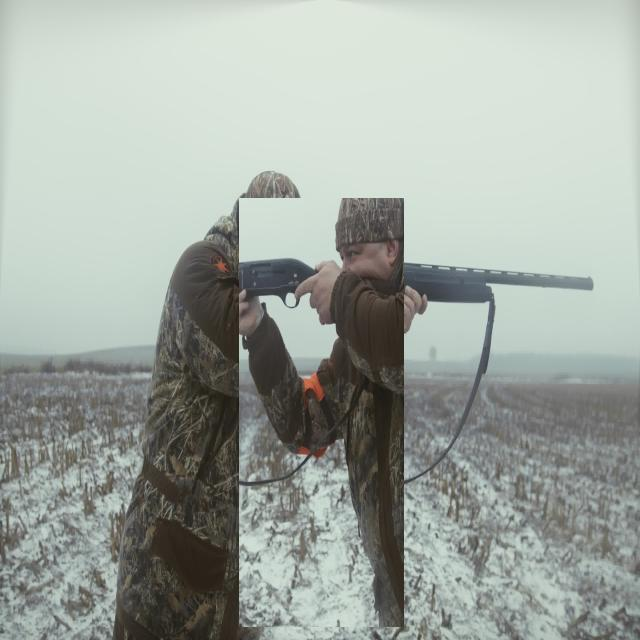poacher: (239, 198, 404, 627)
weapon: (318, 236, 577, 346)
